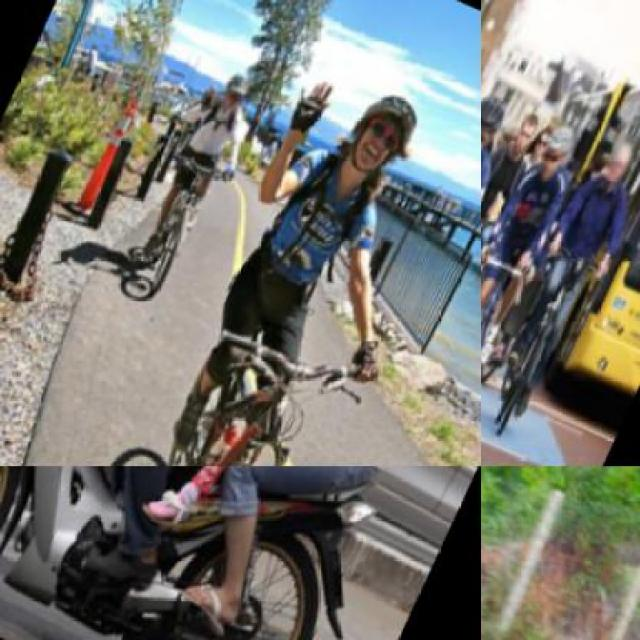With Helmet: (332, 66, 437, 196), (532, 109, 591, 183), (480, 74, 520, 164), (211, 56, 264, 115)
Without Helmet: (603, 122, 639, 182)
